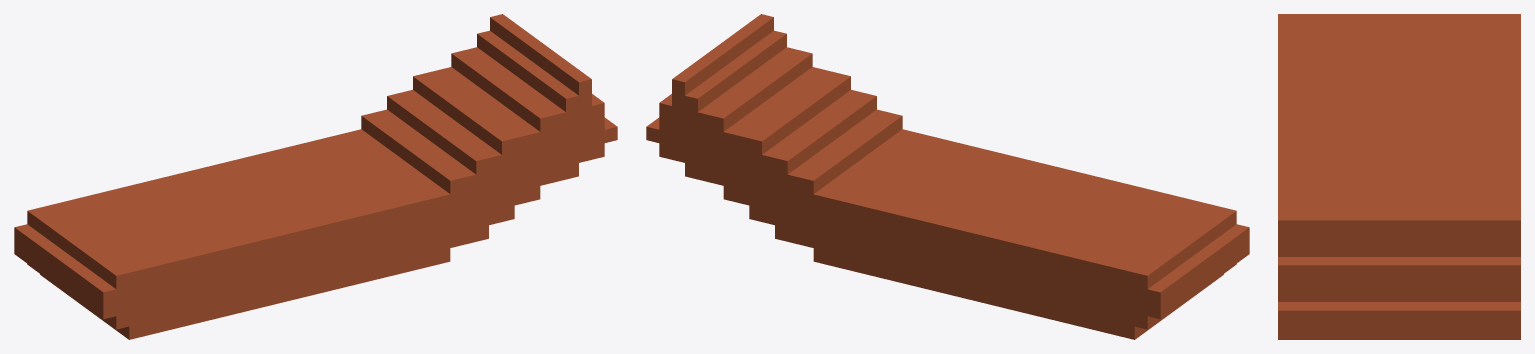
Rendered from scrap_copper.glb.
3 views of the same model, side by side, from view 1: azimuth 30°, elevation 25°; view 2: azimuth 150°, elevation 25°; view 3: azimuth 270°, elevation 25° (orthographic). The views are drawn at different scales.
Parts seen in each view (by area): view 1: scrap_copper:compound; view 2: scrap_copper:compound; view 3: scrap_copper:compound.
Part boxes in pixels (<box>): scrap_copper:compound: <box>14,14,617,339</box>; scrap_copper:compound: <box>646,14,1249,339</box>; scrap_copper:compound: <box>1278,14,1520,339</box>.
Bounding box in the file's own units: 0.08 × 0.022 × 0.024.
